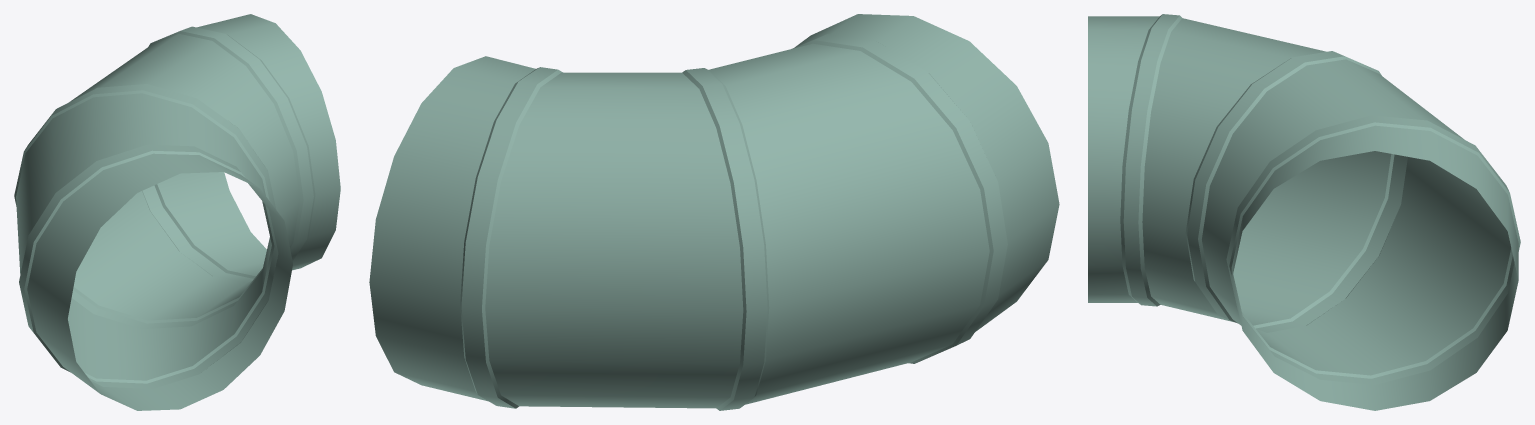
Rendered from PipeLarge_Stepped_Bent_01.fbx.
3 views of the same model, side by side, from view 1: azimuth 30°, elevation 25°; view 2: azimuth 150°, elevation 25°; view 3: azimuth 270°, elevation 25° (orthographic). The views are drawn at different scales.
Parts seen in each view (by area): view 1: PipeLarge_Stepped_Bent_01.001; view 2: PipeLarge_Stepped_Bent_01.001; view 3: PipeLarge_Stepped_Bent_01.001.
Boxes of the visible parts, <box> form: PipeLarge_Stepped_Bent_01.001: <box>14,14,340,410</box>; PipeLarge_Stepped_Bent_01.001: <box>369,14,1059,410</box>; PipeLarge_Stepped_Bent_01.001: <box>1088,14,1520,410</box>.
Bounding box in the file's own units: 0.3016 × 0.2032 × 0.3016.
